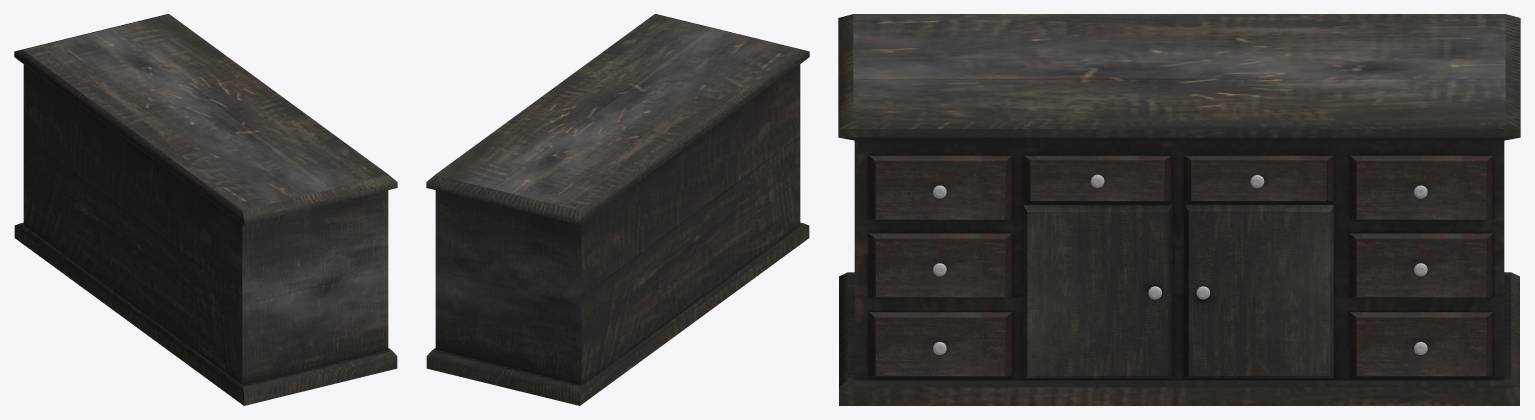
Rendered from cabinet.fbx.
The picture shows the model from 3 angles, left to right: view 1: azimuth 30°, elevation 25°; view 2: azimuth 150°, elevation 25°; view 3: azimuth 270°, elevation 25°; orthographic projection. The views are drawn at different scales.
Visible parts, largest first — view 1: cabinet; view 2: cabinet; view 3: cabinet, cab_door (×2), drawer (×4), drawer4, drawer5, drawer7, drawer6.
Part boxes in pixels (x1,y1,x2,y2): cabinet: [14, 14, 397, 405]; cabinet: [426, 14, 809, 405]; cabinet: [838, 14, 1520, 405]; cab_door (×2): [1023, 204, 1334, 378]; drawer (×4): [868, 155, 1493, 376]; drawer4: [1349, 233, 1493, 297]; drawer5: [1349, 312, 1493, 376]; drawer7: [1184, 155, 1334, 201]; drawer6: [1023, 155, 1171, 201].
Bounding box in the file's own units: 1.03 × 1.19 × 2.59.
